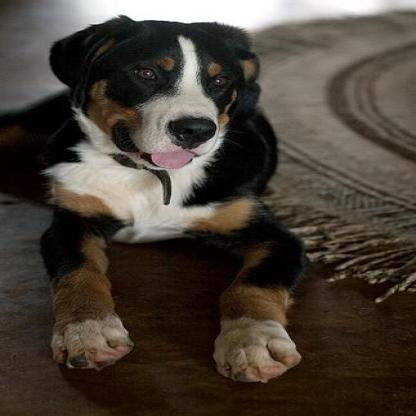Greater_Swiss_Mountain_dog: (0, 10, 316, 384)
